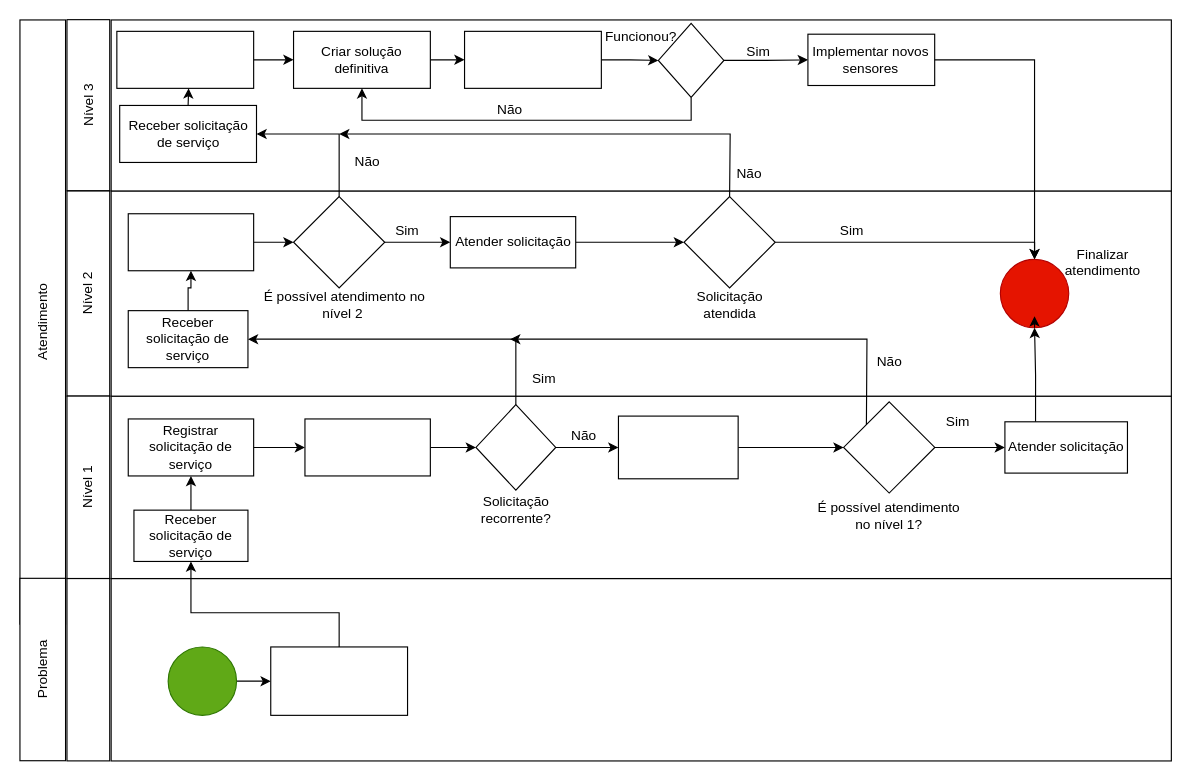
Image size: 1191x782. Some labels were removed from this diagram. The shapes that lost their labels are listed below. From the top down, each one's centre as x and y in pixels, then its label:
At (185,59): "Analisar profundamente a solicitação".
At (532,59): "Testar solução em ambiente controlado".
At (190,242): "Analisar solicitação".
At (367,447): "Classificar solicitação".
At (677,447): "Consultar base de dados".
At (88,669): "Cliente".
At (339,680): "Solicitação de serviço dashboard travada".
